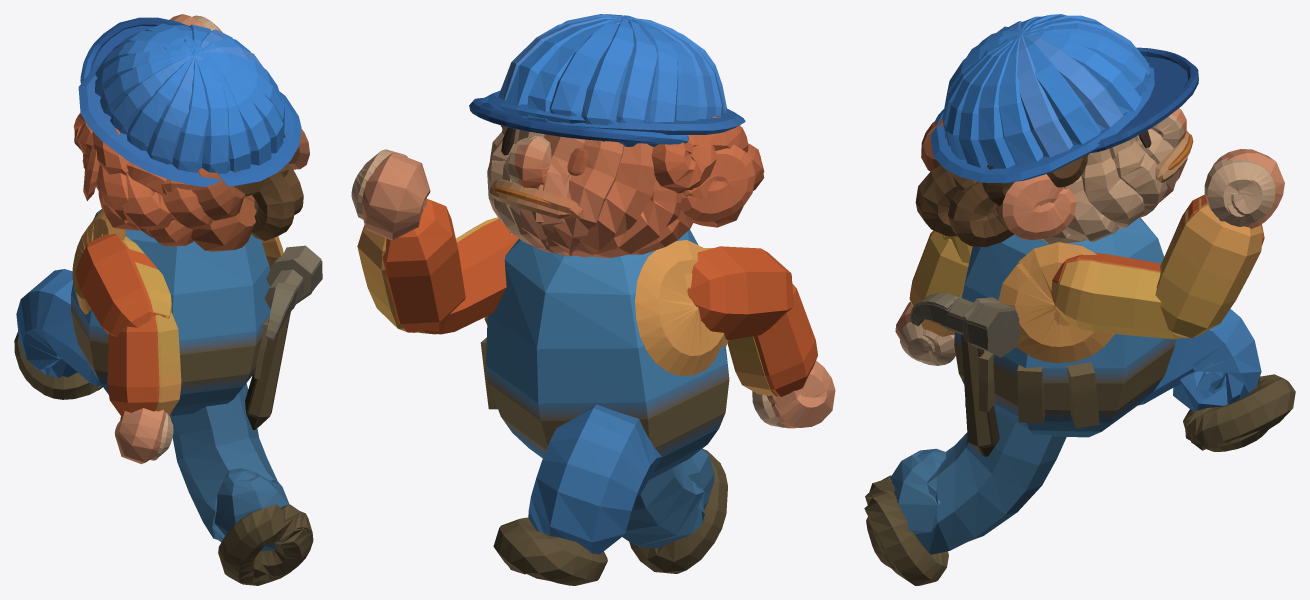
Rendered from worker_climb.fbx.
The picture shows the model from 3 angles, left to right: view 1: azimuth 30°, elevation 25°; view 2: azimuth 150°, elevation 25°; view 3: azimuth 270°, elevation 25°; orthographic projection. The views are drawn at different scales.
Parts seen in each view (by area): view 1: Jump; view 2: Jump; view 3: Jump.
Part boxes in pixels (box(x1,y1,x2,y2)): Jump: box(14, 14, 322, 585); Jump: box(351, 14, 835, 585); Jump: box(864, 14, 1295, 585).
Size of the model in its own units: 1.17 by 2.21 by 1.58.
